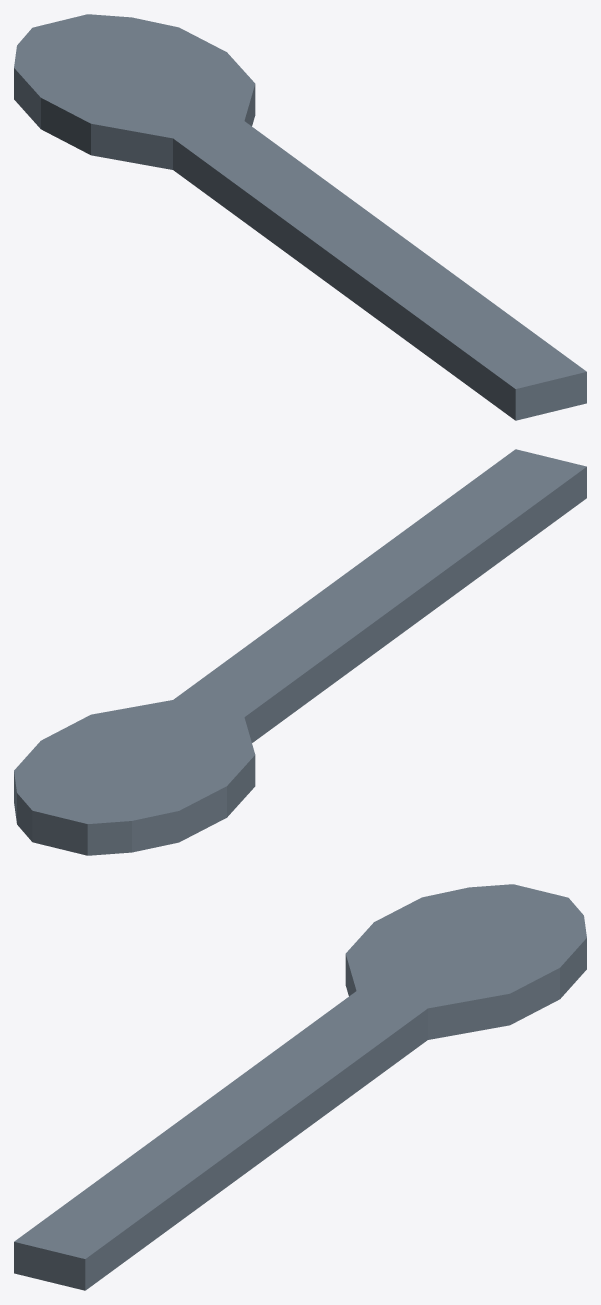
File: CutlerySpoon.fbx
3 views of the same model, one above another, from view 1: azimuth 30°, elevation 25°; view 2: azimuth 150°, elevation 25°; view 3: azimuth 330°, elevation 25° (orthographic).
Visible parts, largest first — view 1: CutlerySpoon; view 2: CutlerySpoon; view 3: CutlerySpoon.
Part boxes in pixels (left/top/right/bottom): CutlerySpoon: left=14, top=14, right=586, bottom=420; CutlerySpoon: left=14, top=449, right=586, bottom=855; CutlerySpoon: left=14, top=884, right=586, bottom=1290.
Size of the model in its own units: 15.71 by 2.55 by 71.8.
